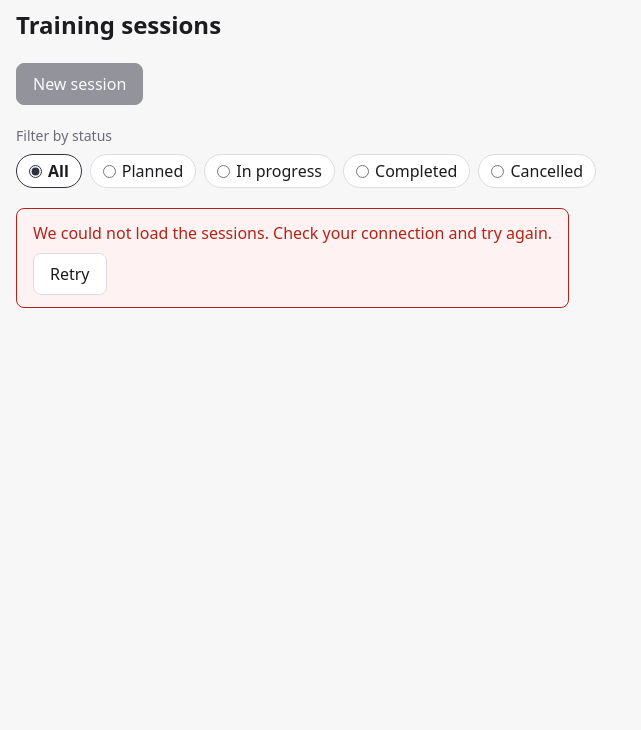
sessions list › shows a recoverable error and loads the list after retry
This screenshot has width=641, height=730.
Expected: the message shows "could not load the sessions", [33,222,552,244]
Click the button "Retry": click(70, 274) [33,253,106,295]
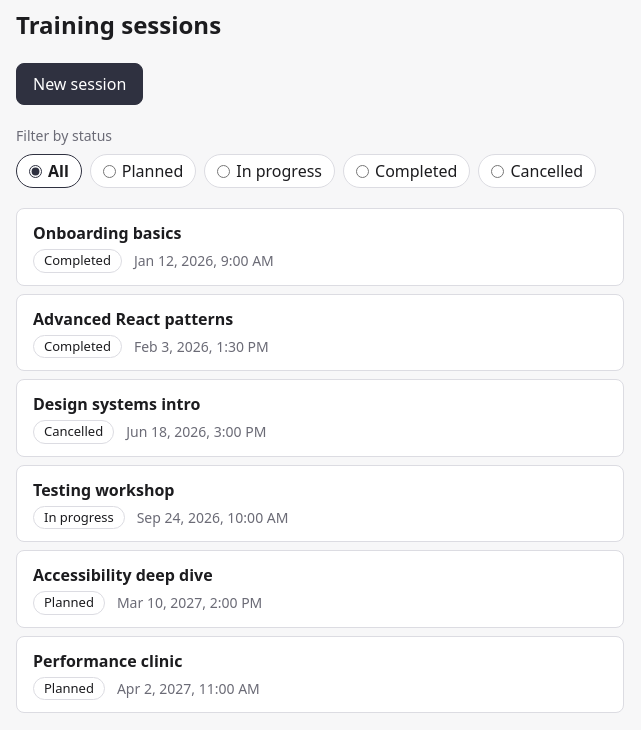
Now the text "Onboarding basics" is shown, box [33,222,182,244]
Now the message "We could not load the sessions. Check your connection and try again. Retry" is gone
